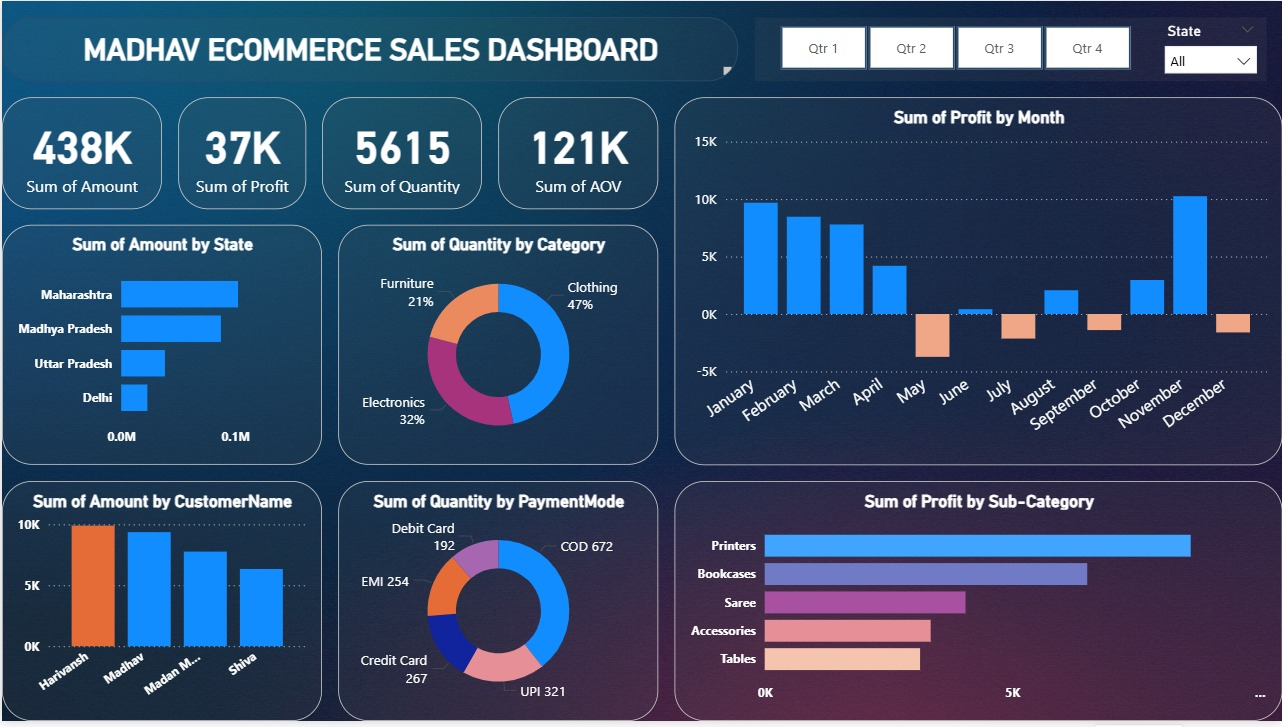

What the dashboard file says about the page in this screenshot:
{"tool":"powerbi","page":{"name":"Page 1","canvas":[1280,720],"ordinal":0},"visuals":[{"type":"textbox","title":"MADHAV ECOMMERCE SALES DASHBOARD","box":[0,16,736,64],"z":0},{"type":"columnChart","fields":{"Category":["Orders.Order Date.Variation.Date Hierarchy.Month"],"Y":["Sum(details.Profit)"]},"box":[672,96,608,368],"z":1000},{"type":"barChart","fields":{"Y":["Sum(details.Profit)"],"Category":["details.Sub-Category"]},"box":[672,480,608,240],"z":2000},{"type":"donutChart","fields":{"Y":["Sum(details.Quantity)"],"Category":["details.Category"]},"box":[336,224,320,240],"z":3000},{"type":"donutChart","fields":{"Category":["details.PaymentMode"],"Y":["Sum(details.Quantity)"]},"box":[336,480,320,240],"z":4000},{"type":"columnChart","fields":{"Y":["Sum(details.Amount)"],"Category":["Orders.CustomerName"]},"box":[0,480,320,240],"z":5000},{"type":"card","fields":{"Values":["Sum(details.AOV)"]},"box":[496,96,160,112],"z":6000},{"type":"card","fields":{"Values":["Sum(details.Amount)"]},"box":[0,96,160,112],"z":7000},{"type":"card","fields":{"Values":["Sum(details.Profit)"]},"box":[176,96,128,112],"z":8000},{"type":"card","fields":{"Values":["Sum(details.Quantity)"]},"box":[320,96,160,112],"z":9000},{"type":"barChart","fields":{"Category":["Orders.State"],"Y":["Sum(details.Amount)"]},"box":[0,224,320,240],"z":10000},{"type":"slicer","fields":{"Values":["Orders.Order Date.Variation.Date Hierarchy.Quarter"]},"box":[753,16,400,64],"z":11000},{"type":"slicer","fields":{"Values":["Orders.State"]},"box":[1152,16,112,64],"z":12000}]}

Visuals, with their boxes in screenshot pixels (x1, y1, x2, y2), scaled from the page's 1280x720 canvas onto the 1282x727 screenshot:
"MADHAV ECOMMERCE SALES DASHBOARD" textbox: 0 16 737 81
columnChart - Orders.Order Date.Variation.Date Hierarchy.Month x Sum(details.Profit): 673 97 1281 469
barChart - Sum(details.Profit) x details.Sub-Category: 673 485 1281 726
donutChart - Sum(details.Quantity) x details.Category: 337 226 657 469
donutChart - details.PaymentMode x Sum(details.Quantity): 337 485 657 726
columnChart - Sum(details.Amount) x Orders.CustomerName: 0 485 320 726
card - Sum(details.AOV): 497 97 657 210
card - Sum(details.Amount): 0 97 160 210
card - Sum(details.Profit): 176 97 304 210
card - Sum(details.Quantity): 320 97 481 210
barChart - Orders.State x Sum(details.Amount): 0 226 320 469
slicer - Orders.Order Date.Variation.Date Hierarchy.Quarter: 754 16 1155 81
slicer - Orders.State: 1154 16 1266 81
